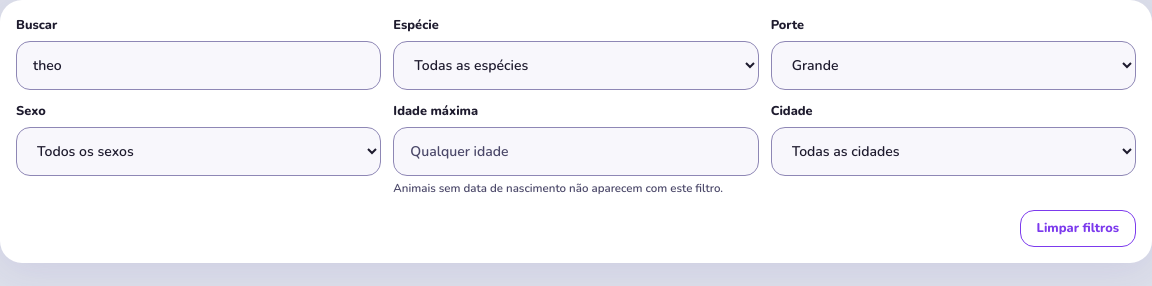
CT-89: limpar filtros › devolve busca e os cinco filtros ao estado inicial
Click the button "Limpar filtros" at coordinates (1078, 228), box [1020, 210, 1136, 247]
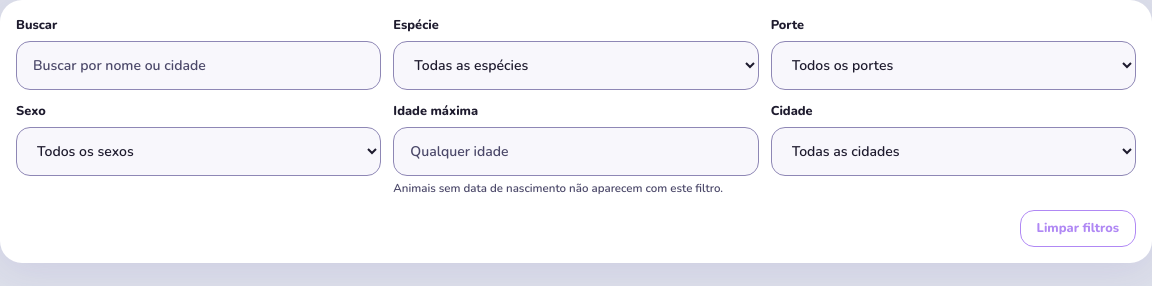
Check: the search field labelled "Buscar" is empty, box [16, 41, 381, 90]
Check: the dropdown labelled "Porte" shows "Todos os portes", box [771, 41, 1136, 90]
